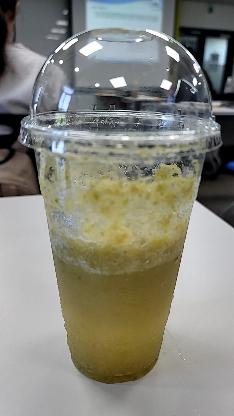Plastic Cup: (20, 20, 224, 388), (19, 20, 224, 162)
